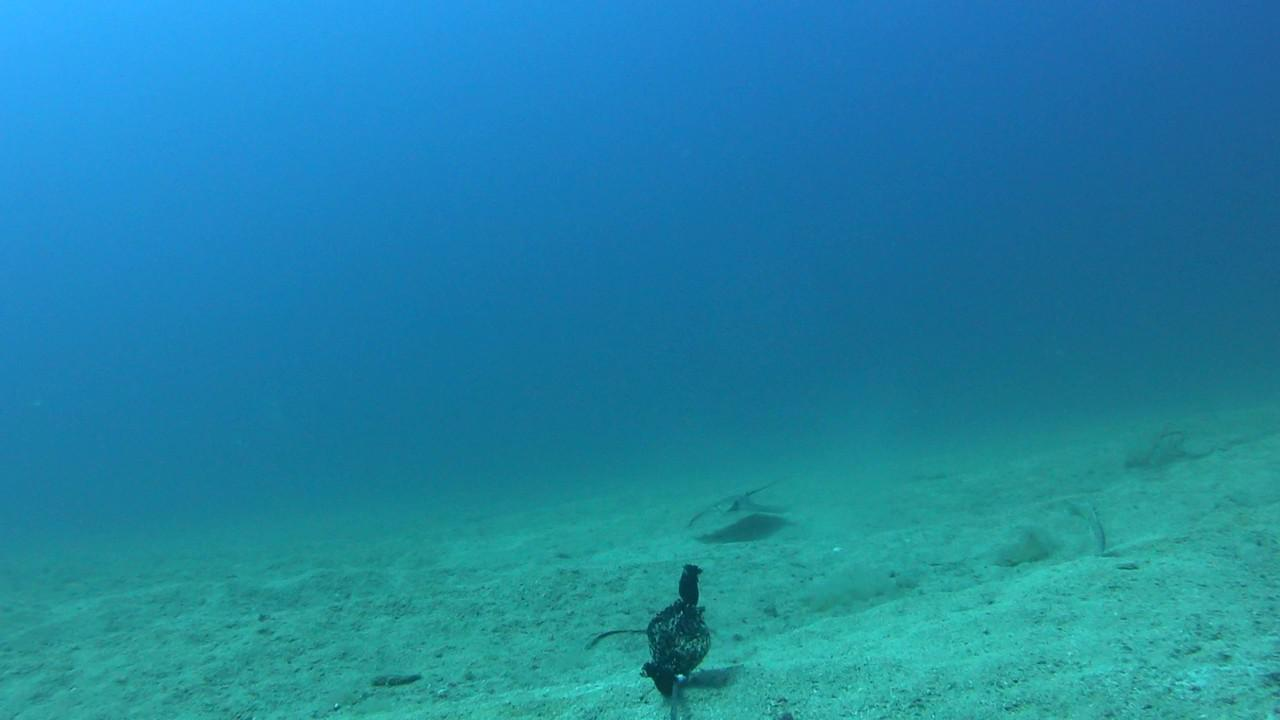myliobatis: (682, 473, 797, 536)
